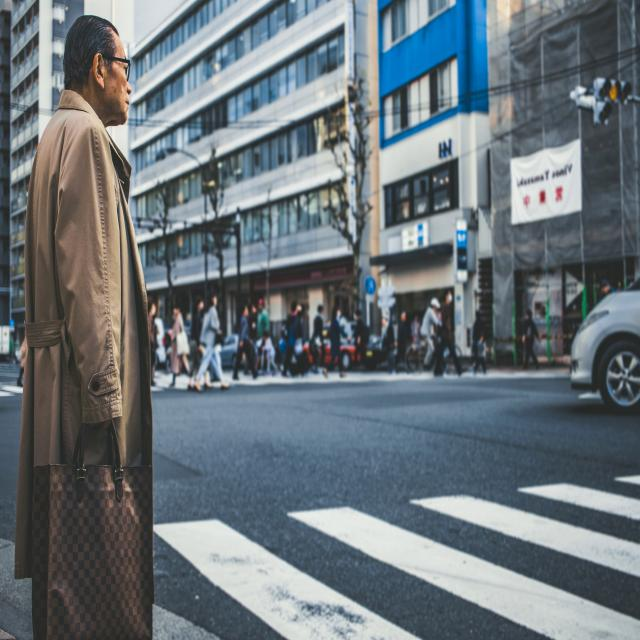adult: (27, 14, 154, 640)
